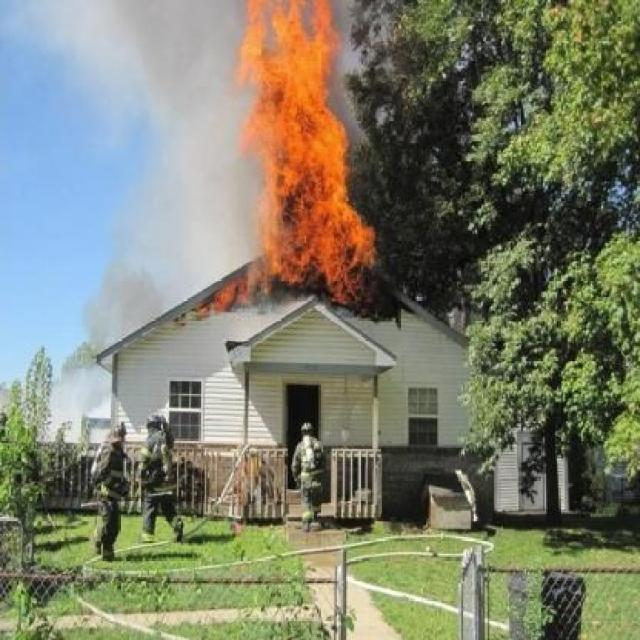Fire: (203, 48, 440, 310)
